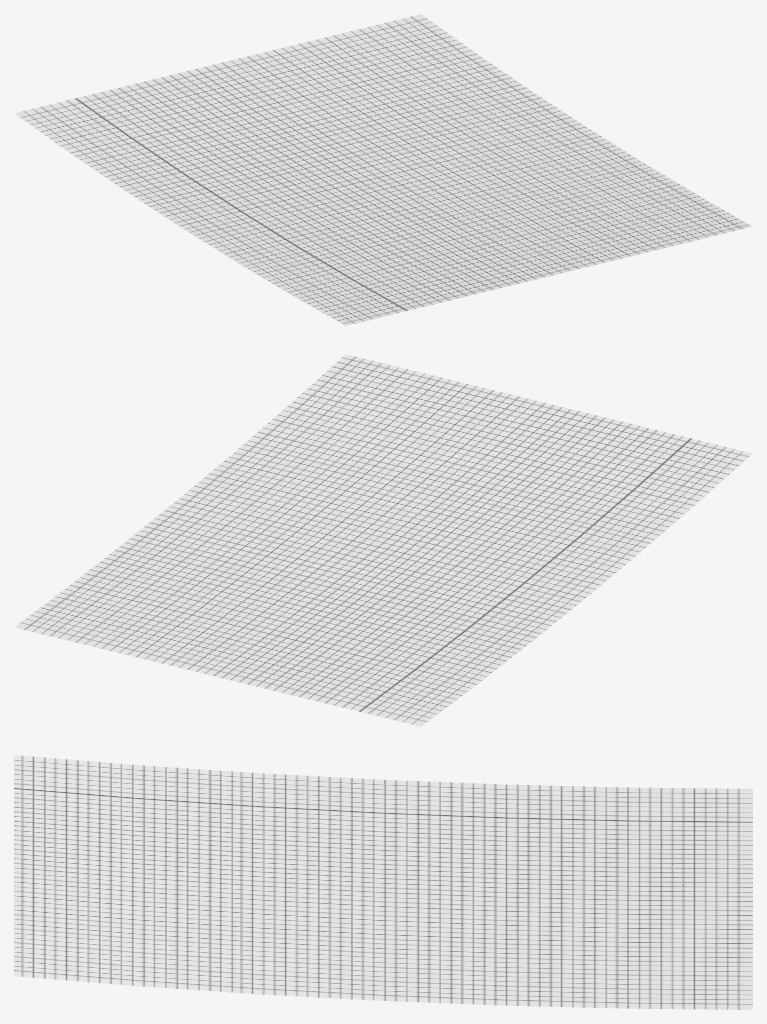
File: blattpapier_karo.fbx
The picture shows the model from 3 angles, top to bottom: view 1: azimuth 30°, elevation 25°; view 2: azimuth 150°, elevation 25°; view 3: azimuth 270°, elevation 25°; orthographic projection. The views are drawn at different scales.
Visible parts, largest first — view 1: Ebene; view 2: Ebene; view 3: Ebene.
Boxes of the visible parts, bbox=[...] form: Ebene: bbox=[14, 14, 752, 325]; Ebene: bbox=[14, 354, 752, 726]; Ebene: bbox=[14, 755, 752, 1009].
Bounding box in the file's own units: 21 × 1.49 × 29.65.
Materials: 1 (1 with a texture image).
